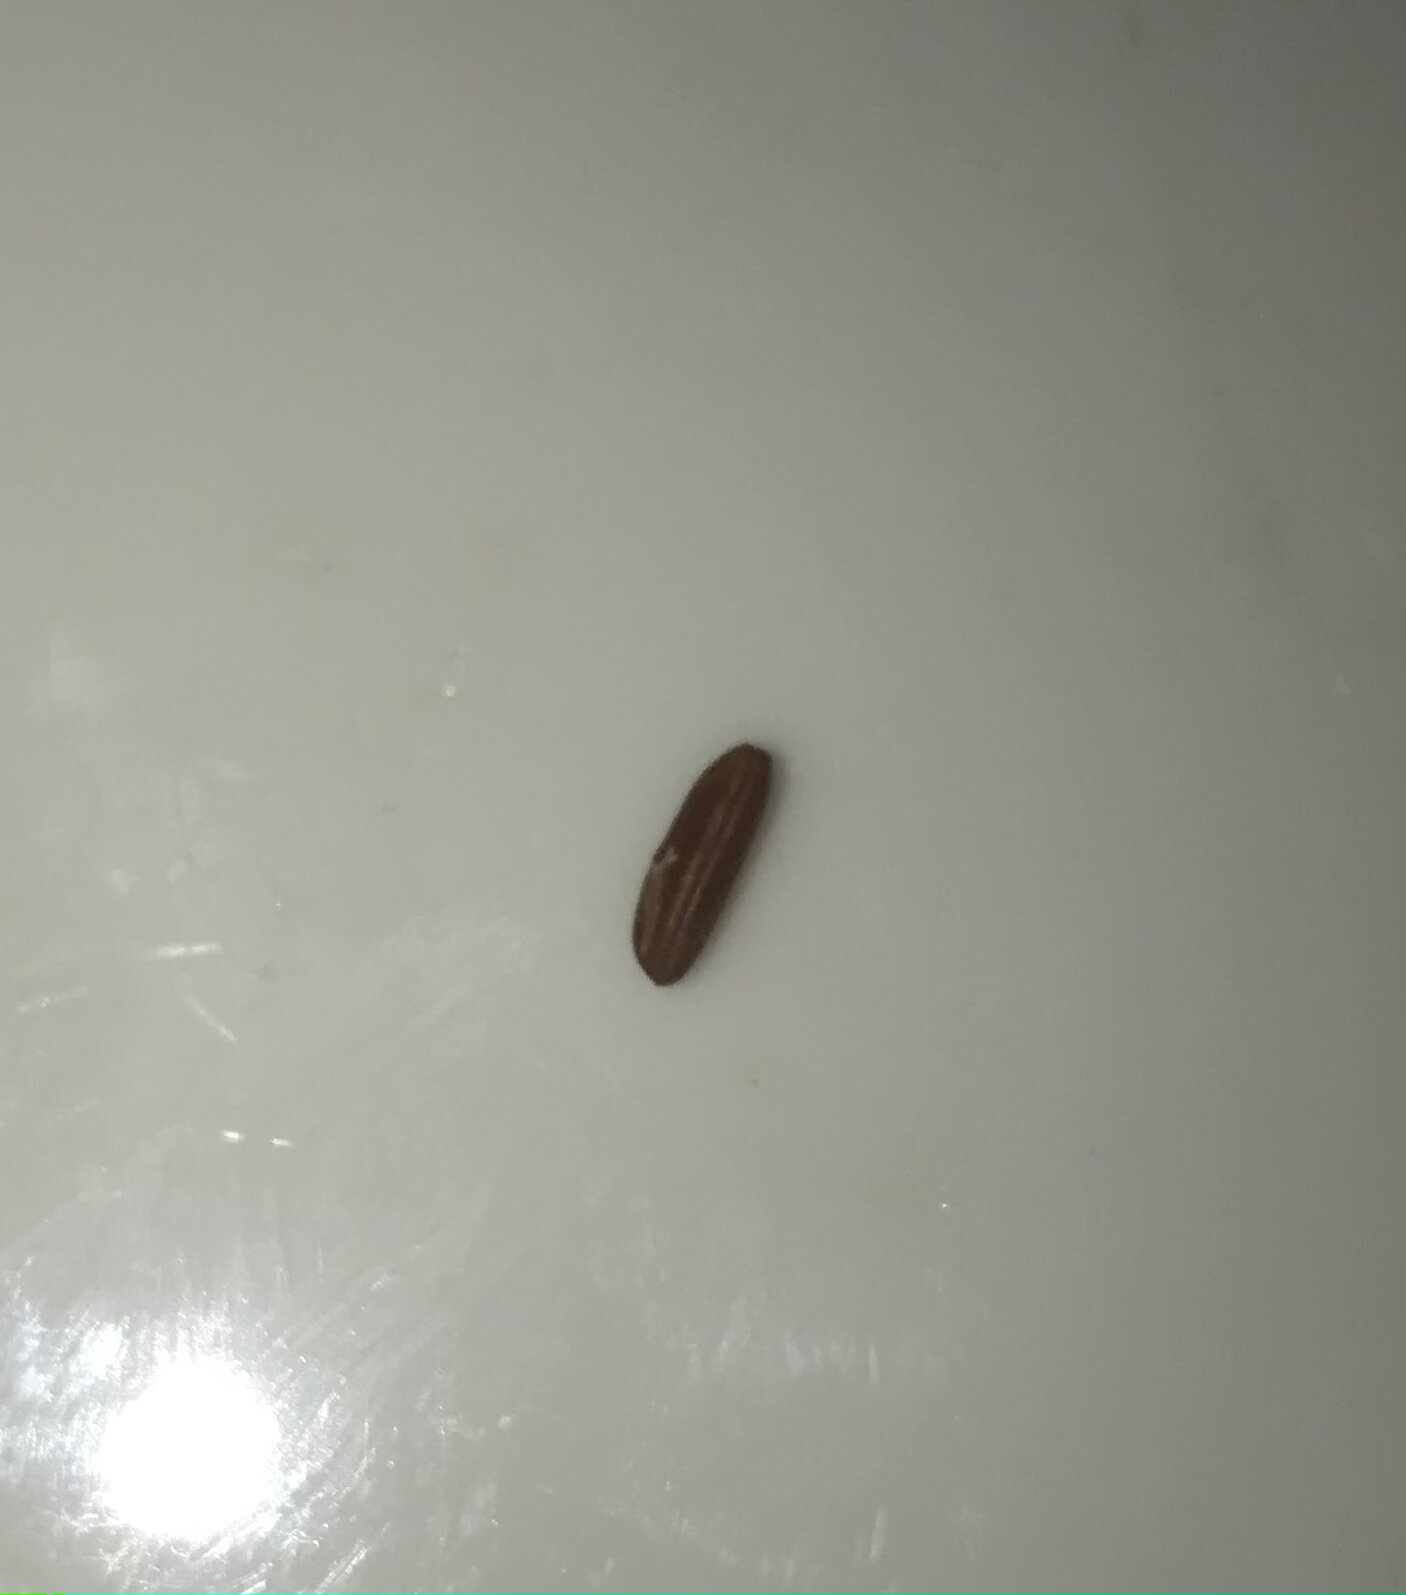Gao Huyet Rong: (622, 721, 793, 998)
